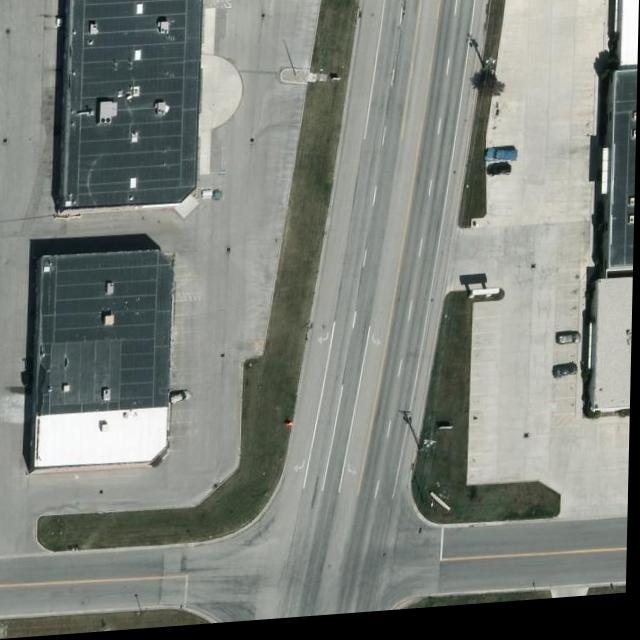vehicle: (486, 155, 521, 173), (553, 371, 582, 388), (488, 169, 513, 186), (172, 393, 195, 409), (557, 342, 583, 354)
